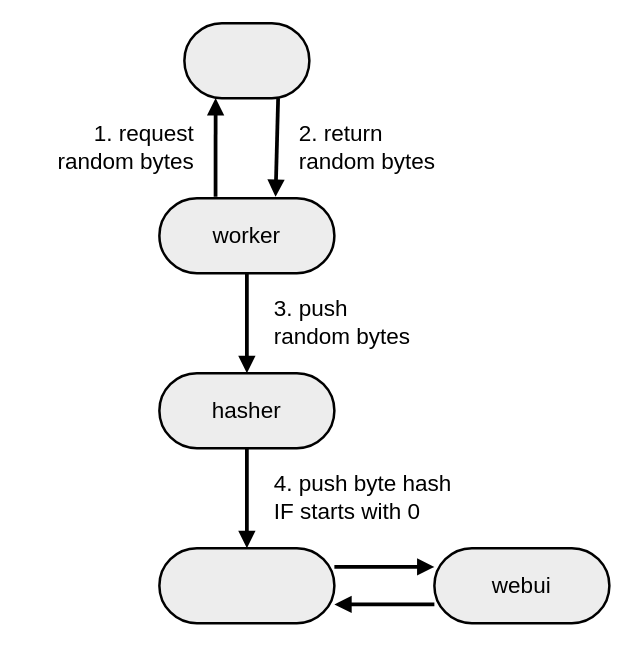
This 631x645 diagram has some shape labels left out. The centre of each missing label's shape, as x and y in pixels:
"redis" belongs at (246,585).
"RNG" belongs at (246,60).
